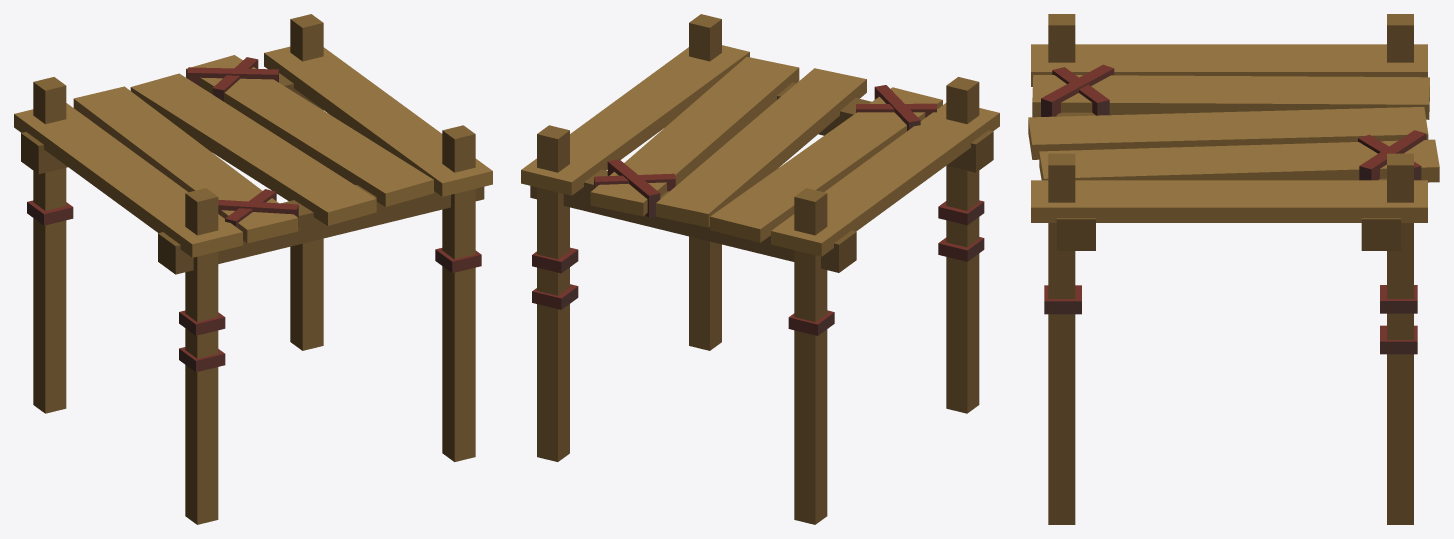
Rendered from Bridge.fbx.
The picture shows the model from 3 angles, left to right: view 1: azimuth 30°, elevation 25°; view 2: azimuth 150°, elevation 25°; view 3: azimuth 270°, elevation 25°; orthographic projection. The views are drawn at different scales.
Parts seen in each view (by area): view 1: ST_Env_Bridge_01; view 2: ST_Env_Bridge_01; view 3: ST_Env_Bridge_01.
Boxes of the visible parts, <box> form: ST_Env_Bridge_01: <box>14,14,492,524</box>; ST_Env_Bridge_01: <box>521,14,999,524</box>; ST_Env_Bridge_01: <box>1028,14,1439,524</box>.
Size of the model in its own units: 2 by 2 by 2.07.
